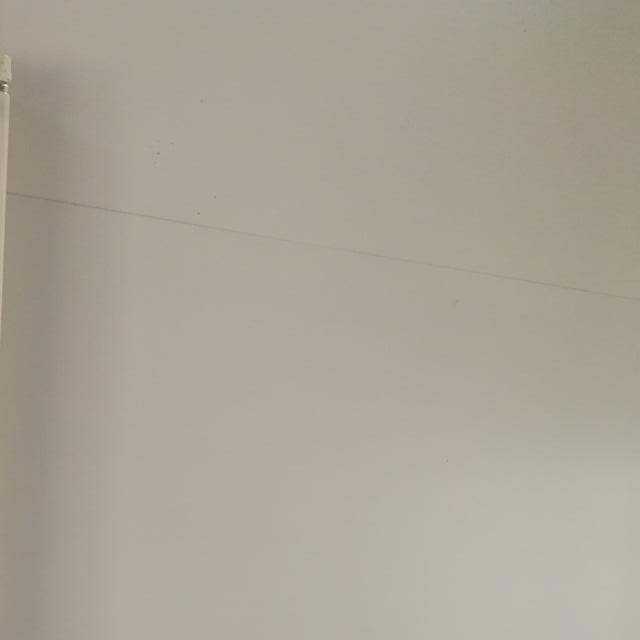fluorescent tube: (0, 35, 52, 640)
